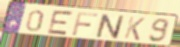0: (24, 9, 48, 32)
9: (148, 17, 171, 43)
E: (46, 9, 76, 36)
F: (71, 12, 100, 37)
K: (122, 16, 147, 42)
N: (95, 13, 126, 41)
